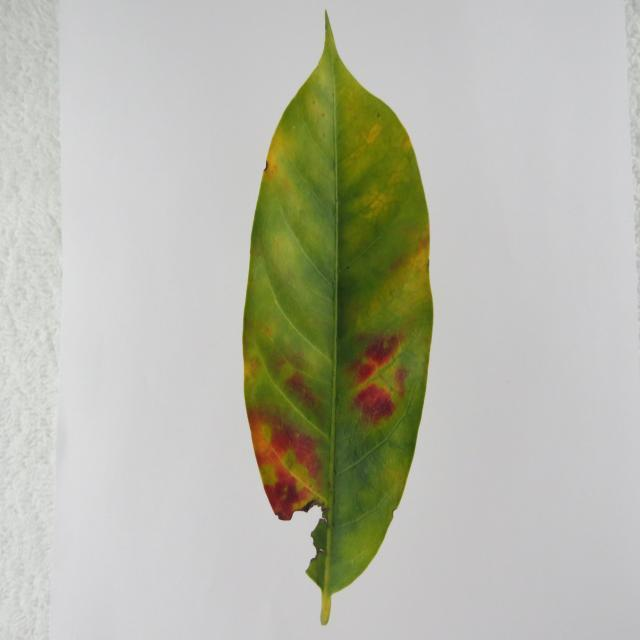DeficienciaNutricional-Fosforo: (242, 15, 432, 625)
